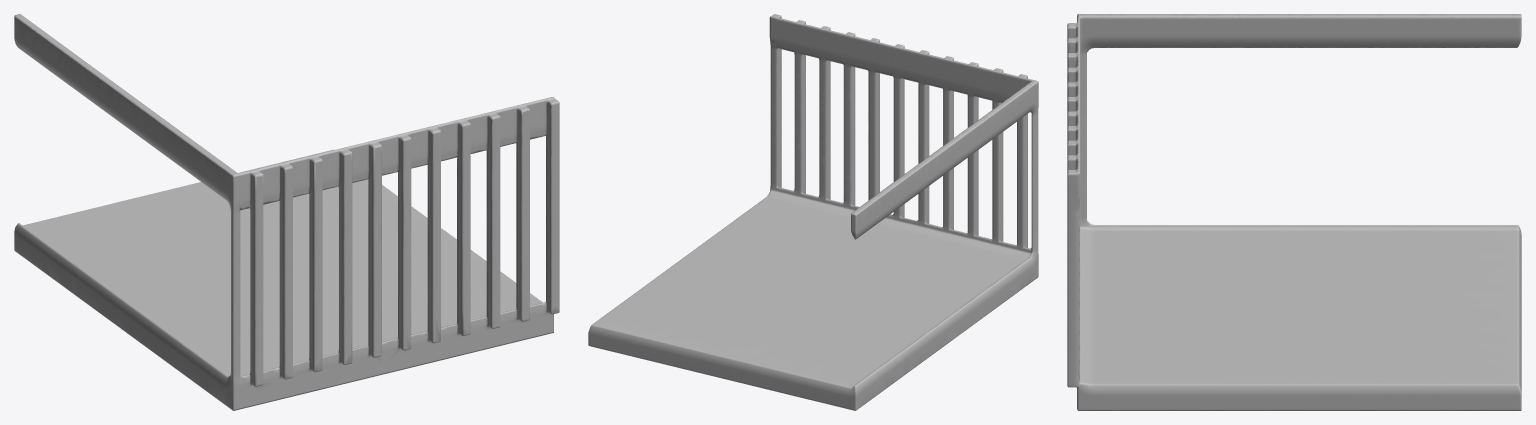
Rendered from colored-base-transformed.glb.
3 views of the same model, side by side, from view 1: azimuth 30°, elevation 25°; view 2: azimuth 150°, elevation 25°; view 3: azimuth 270°, elevation 25° (orthographic). The views are drawn at different scales.
Parts seen in each view (by area): view 1: base; view 2: base; view 3: base.
Part boxes in pixels (left/top/right/bottom): base: left=14, top=14, right=559, bottom=410; base: left=588, top=14, right=1038, bottom=410; base: left=1067, top=14, right=1521, bottom=410.
Size of the model in its own units: 1584 by 1107 by 1908.
1 material, 1 textured.
